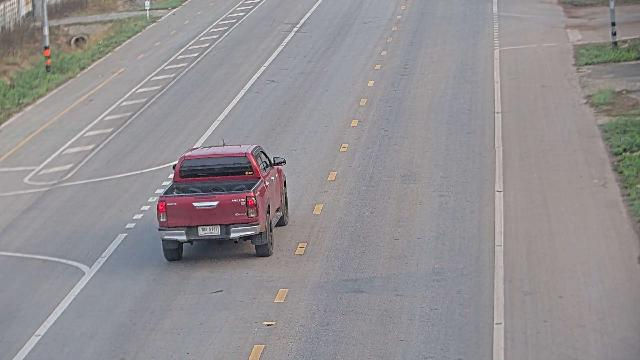pickup-truck: (156, 139, 289, 262)
